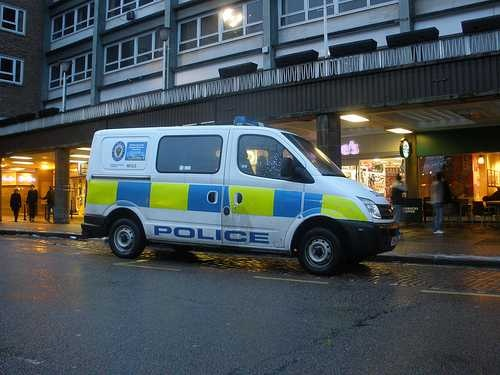Police Van: (71, 116, 395, 292)
